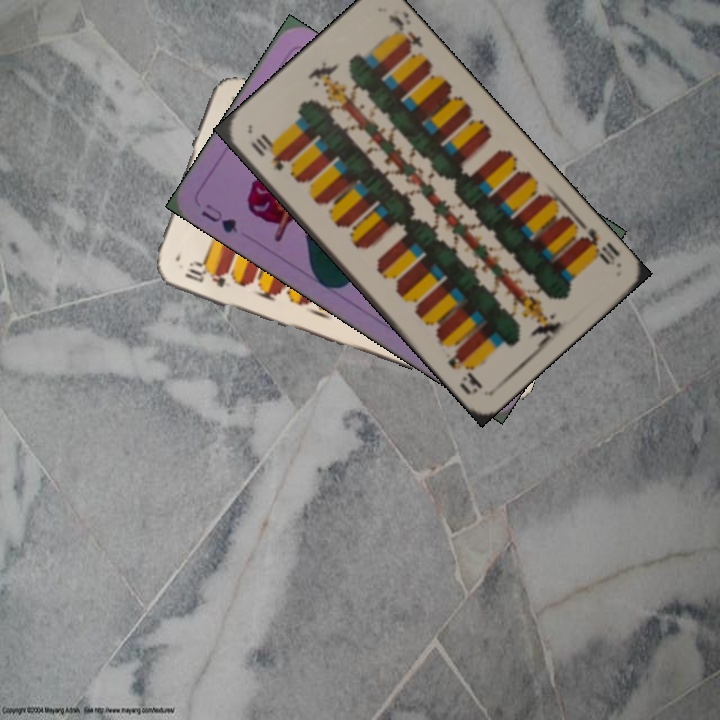E10: (574, 220, 623, 268), (247, 131, 287, 174), (180, 259, 229, 290)
GU: (197, 200, 240, 236)
